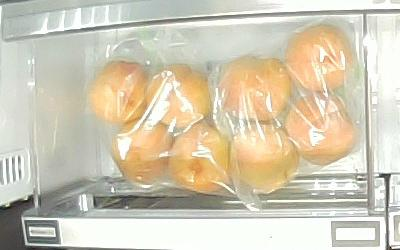peach_vinyl: (283, 91, 358, 165), (229, 124, 300, 192), (219, 57, 292, 122), (285, 25, 352, 91), (145, 64, 212, 129), (168, 124, 229, 194), (112, 117, 172, 185), (87, 60, 149, 125)
